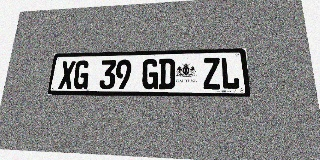3: (99, 60, 116, 89)
9: (115, 59, 132, 89)
D: (158, 58, 175, 89)
G: (142, 59, 159, 89), (73, 60, 90, 89)
L: (220, 57, 240, 89)
X: (58, 61, 76, 89)
Z: (202, 57, 221, 89)
